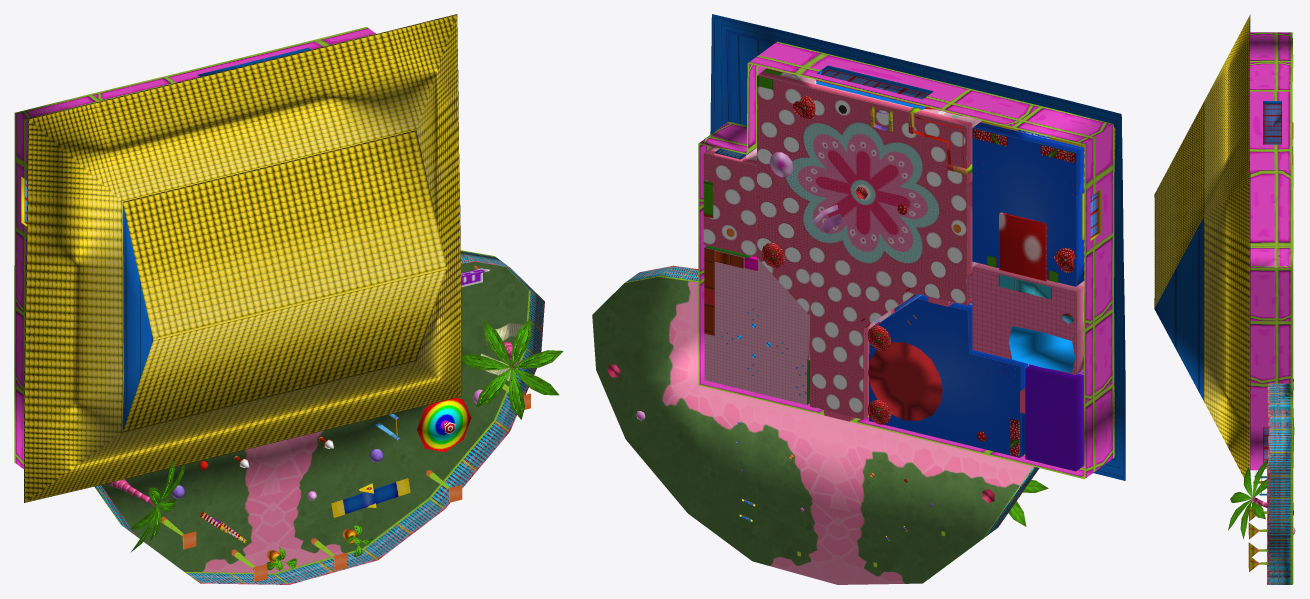
Rendered from interior-03.obj.
The picture shows the model from 3 angles, left to right: view 1: azimuth 30°, elevation 25°; view 2: azimuth 150°, elevation 25°; view 3: azimuth 270°, elevation 25°; orthographic projection. The views are drawn at different scales.
Visible parts, largest first — view 1: roof, backyard, palm-04, swing-04, palm-05, swing-06; view 2: interior, backyard, roof, bed-09, bed-10, tv05, kitchen-set, windows, sofa-12, bathroom-furniture; view 3: roof, backyard, palm-04, windows.
Boxes of the visible parts, x1,y1,x2,y2 form: roof: (24, 14, 461, 502); backyard: (14, 27, 544, 584); palm-04: (461, 318, 563, 419); swing-04: (417, 398, 471, 452); palm-05: (108, 460, 184, 551); swing-06: (331, 478, 410, 517); interior: (703, 65, 1101, 471); backyard: (592, 41, 1114, 584); roof: (710, 14, 1125, 480); bed-09: (868, 342, 942, 420); bed-10: (987, 212, 1058, 282); tv05: (1008, 326, 1075, 372); kitchen-set: (704, 248, 757, 335); windows: (816, 69, 1098, 238); sofa-12: (908, 106, 972, 174); bathroom-furniture: (998, 274, 1051, 299); roof: (1154, 14, 1250, 477); backyard: (1249, 32, 1294, 584); palm-04: (1228, 460, 1293, 538); windows: (1263, 104, 1281, 467).
Size of the model in its own units: 21.26 by 20.64 by 6.1.
Materials: 8 (8 with a texture image).
